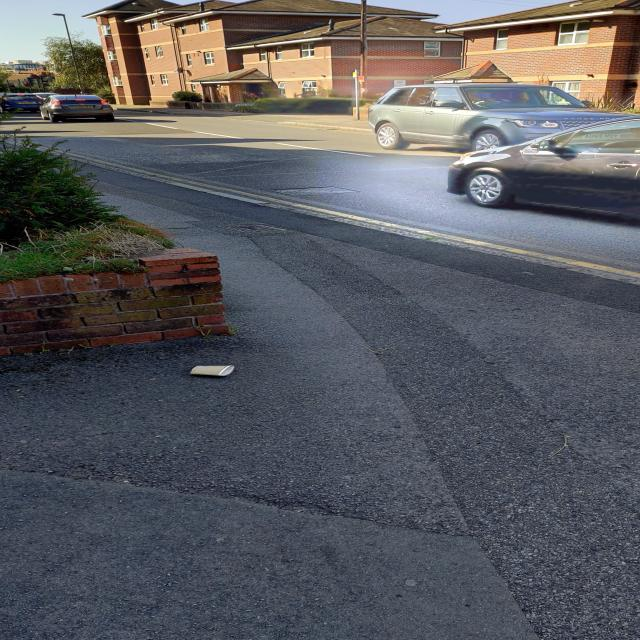litter: (186, 365, 236, 378)
